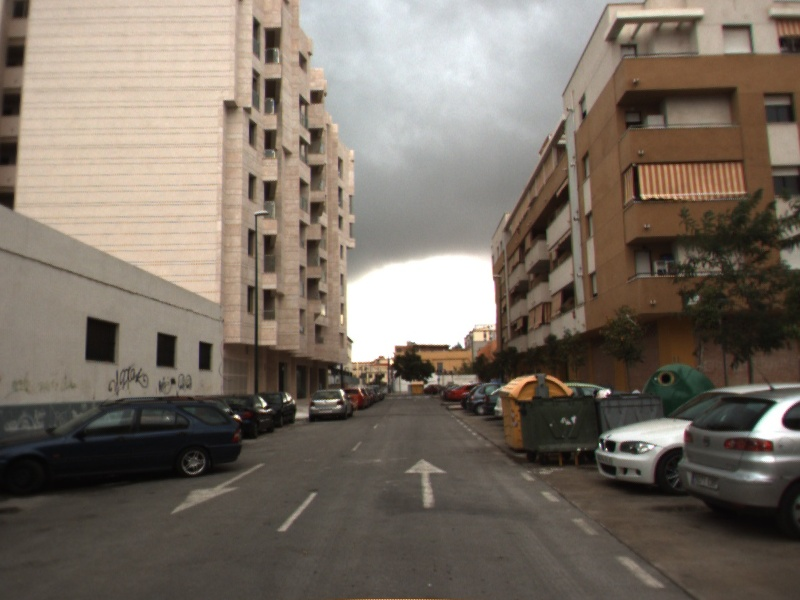STRAIGHT: (402, 456, 450, 510)
